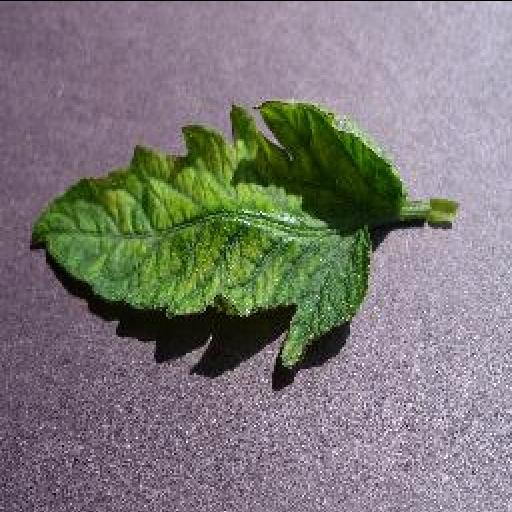disease_tomato: (32, 98, 406, 370)
